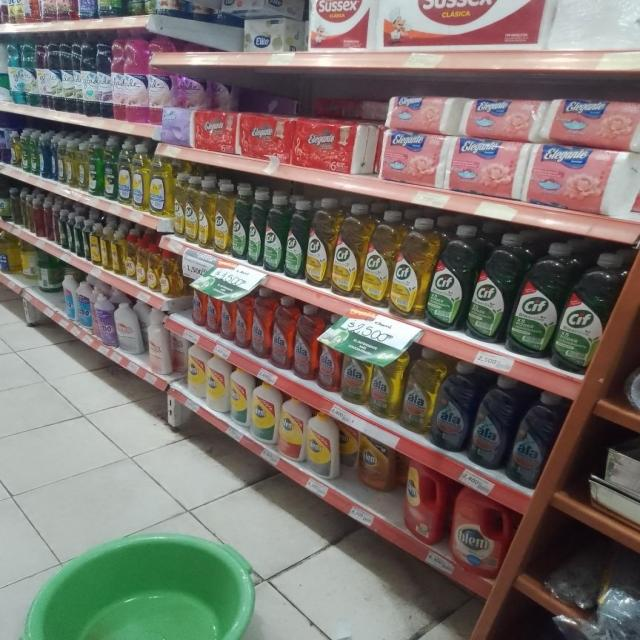ala_conc_amarillo: (402, 348, 433, 434), (370, 354, 400, 420), (341, 356, 369, 404), (8, 0, 24, 24)
ala_conc_azul: (512, 390, 566, 489), (472, 374, 511, 470), (434, 361, 472, 452), (593, 574, 640, 640), (76, 0, 96, 19)
ala_conc_rojo: (294, 304, 318, 381), (272, 296, 293, 370), (319, 322, 340, 392), (251, 290, 271, 359), (235, 288, 251, 349), (206, 285, 220, 333), (57, 0, 75, 21), (39, 0, 56, 22), (23, 0, 37, 23)
cif_conc_bot_amarilla: (391, 216, 428, 320), (362, 209, 392, 308), (333, 202, 363, 297), (306, 198, 332, 289), (214, 179, 231, 255), (198, 177, 212, 250), (185, 176, 198, 244), (173, 172, 184, 240)
cif_conc_botella_verde: (556, 251, 611, 376), (511, 240, 557, 358), (468, 232, 511, 344), (427, 224, 469, 331), (285, 197, 306, 279), (264, 195, 284, 272), (248, 188, 264, 268), (232, 183, 248, 261)
heroe: (552, 0, 640, 51)
magistral_con_amarillo: (132, 141, 149, 212)
